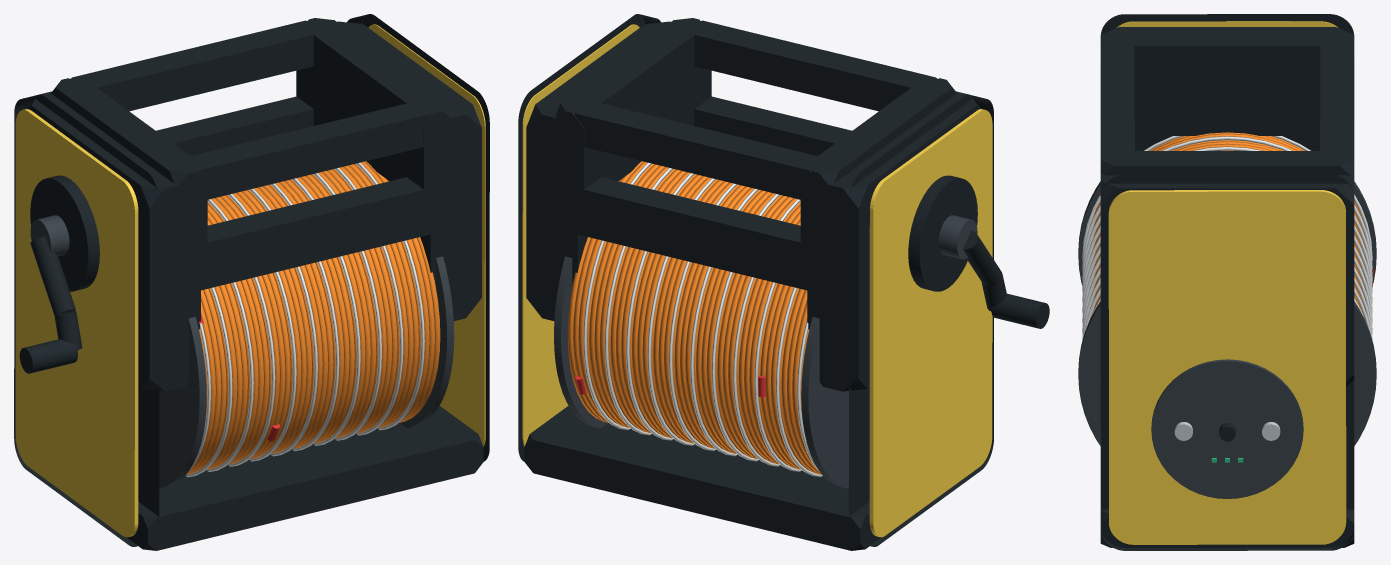
Rendered from chasing-e-reel-reference.glb.
3 views of the same model, side by side, from view 1: azimuth 30°, elevation 25°; view 2: azimuth 150°, elevation 25°; view 3: azimuth 270°, elevation 25° (orthographic).
Parts seen in each view (by area): view 1: reel_housing, reel_tether, reel_handle, reel_crank, reel_drum; view 2: reel_housing, reel_tether, reel_handle, reel_crank, reel_drum; view 3: reel_housing, reel_handle, reel_controls, reel_tether, reel_drum.
Boxes of the visible parts, left/top/right/bottom form: reel_housing: left=14, top=14, right=489, bottom=550; reel_tether: left=185, top=161, right=440, bottom=477; reel_handle: left=51, top=18, right=454, bottom=261; reel_crank: left=19, top=175, right=99, bottom=373; reel_drum: left=159, top=256, right=454, bottom=488; reel_housing: left=518, top=14, right=993, bottom=550; reel_tether: left=567, top=161, right=822, bottom=477; reel_handle: left=553, top=18, right=956, bottom=251; reel_crank: left=908, top=175, right=1049, bottom=328; reel_drum: left=554, top=256, right=848, bottom=488; reel_housing: left=1100, top=14, right=1354, bottom=550; reel_handle: left=1100, top=31, right=1354, bottom=175; reel_controls: left=1151, top=359, right=1303, bottom=498; reel_tether: left=1082, top=132, right=1373, bottom=340; reel_drum: left=1078, top=181, right=1376, bottom=446.
Size of the model in its own units: 0.509 by 0.4 by 0.294.
